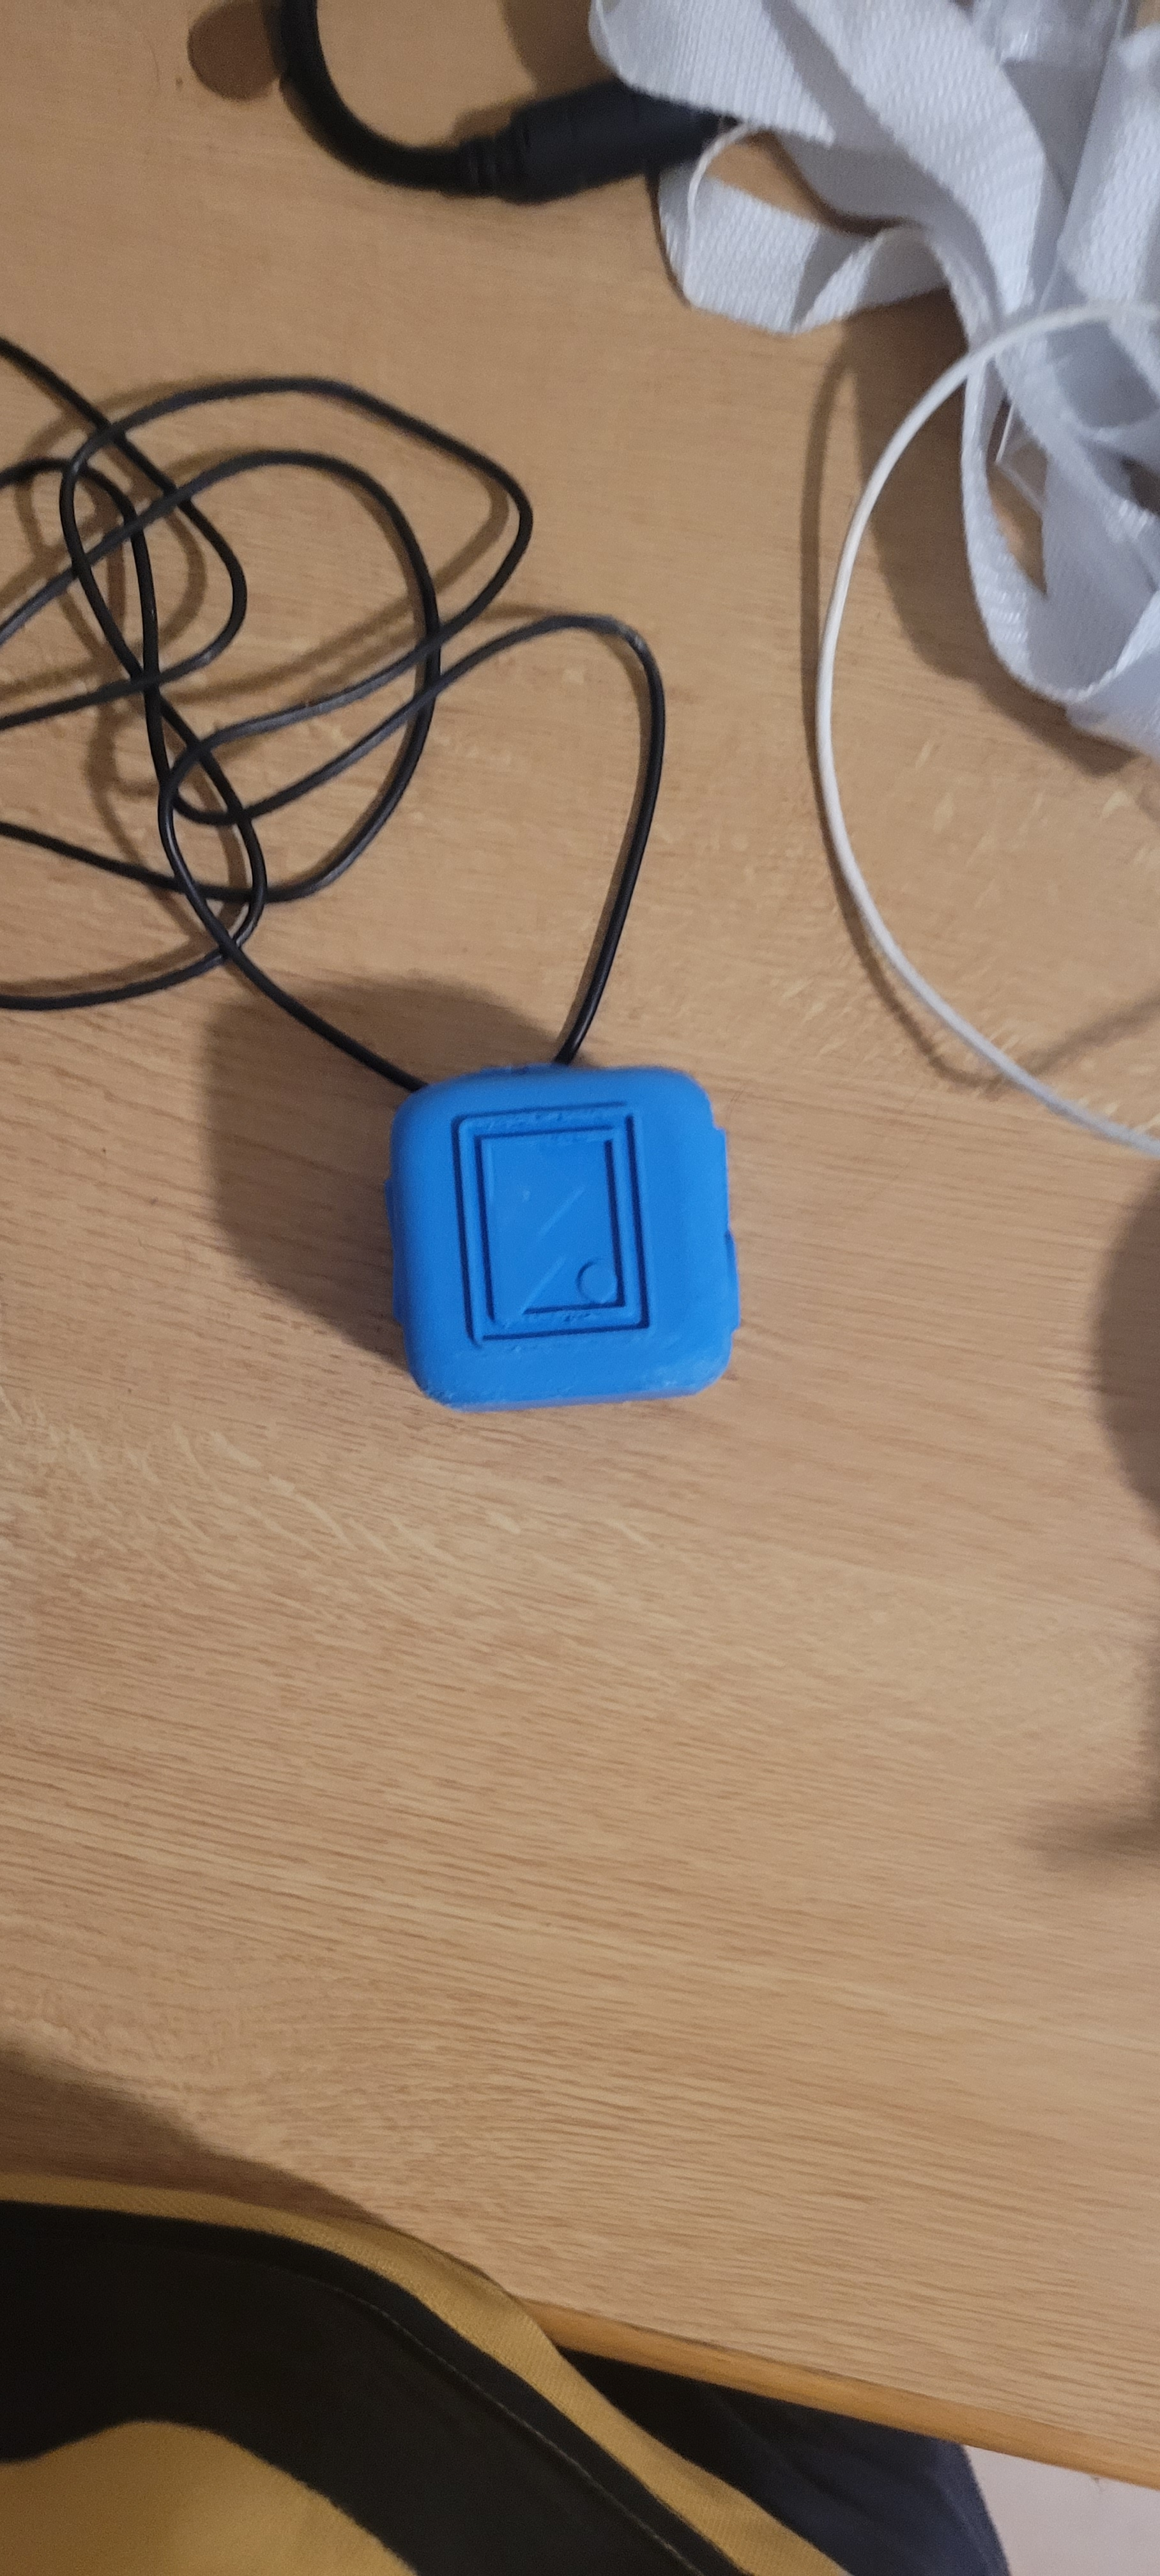Story: (404, 1086, 669, 1388)
